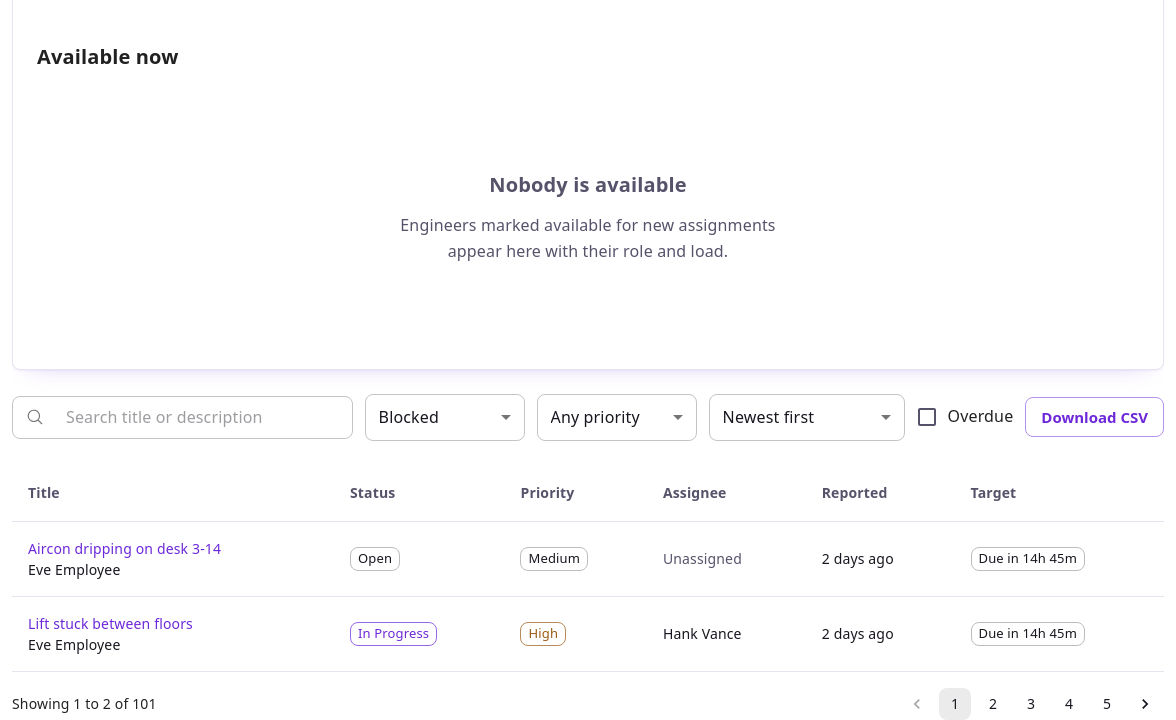
Test case: IncidentsPage › gives admins the overview and a CSV of the filtered list, and nobody else
(page scrolled)
Click the button "Download CSV". click: x=1095, y=417
box: [1025,397,1164,437]
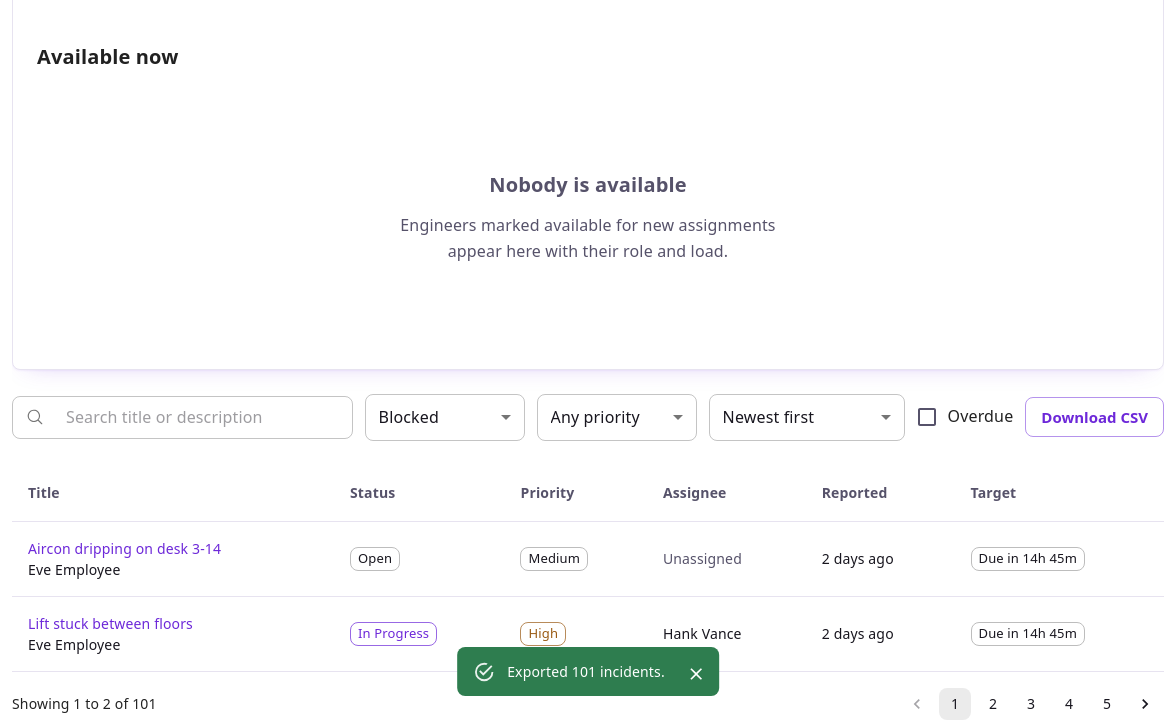
expect the message reads "Exported 101 incidents.": met, box [507,662,665,681]
